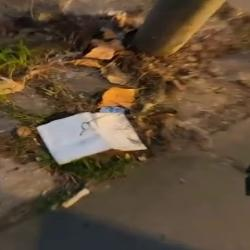Restaffald: (37, 112, 147, 164)
